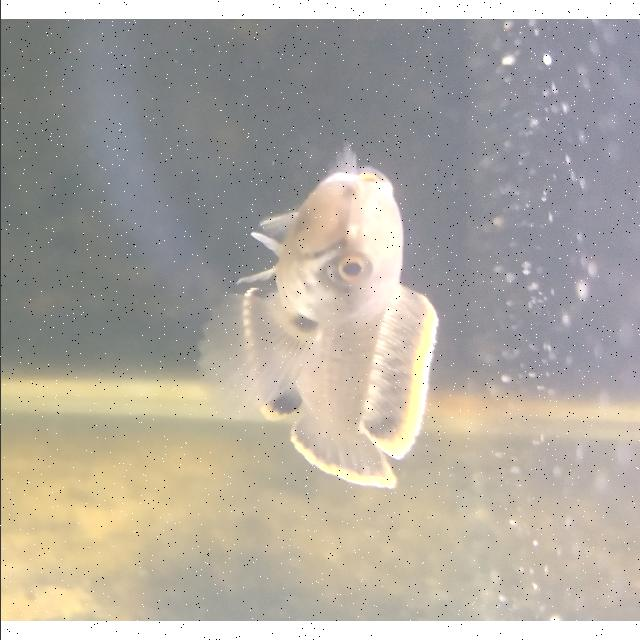Mulut: (308, 174, 368, 262)
Sirip Dada: (184, 282, 336, 421), (308, 140, 368, 182), (230, 258, 290, 292)
Sirip Ekor: (278, 427, 406, 497)
Sirip Perut: (245, 204, 302, 256)
Sirip Punggung: (353, 278, 457, 460)
